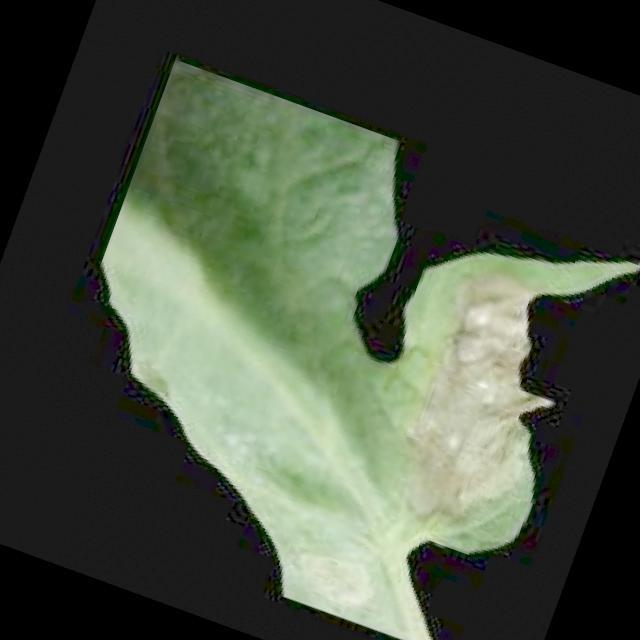Tomato late blight leaf: (13, 56, 640, 640)
